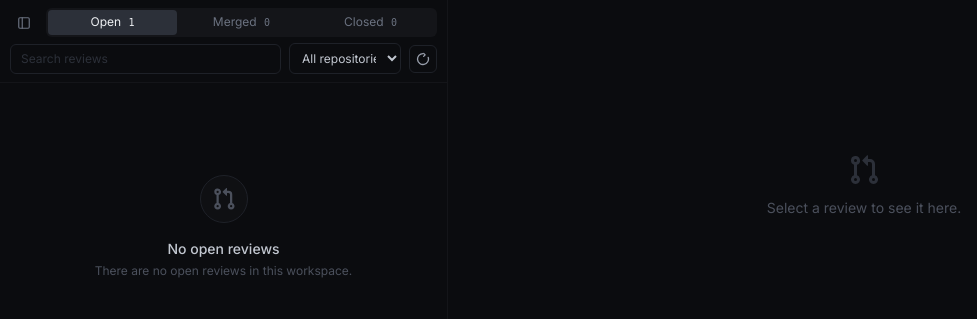
CodeReviewsPage › shows a centered actionable empty state for a remote search
Type "missing review" into the search field. click: (146,58)
box: [10,44,281,74]
Wait 300 ms
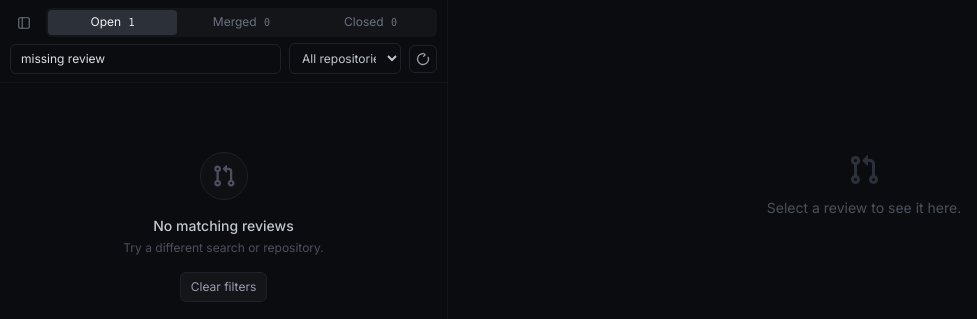
Now the heading "No matching reviews" is shown, box [153,216,294,236]
Now the text "Try a different search or repository." is shown, box [123,240,324,256]
Click the button "Clear filters". click: (223,287)
box: [180,272,267,302]
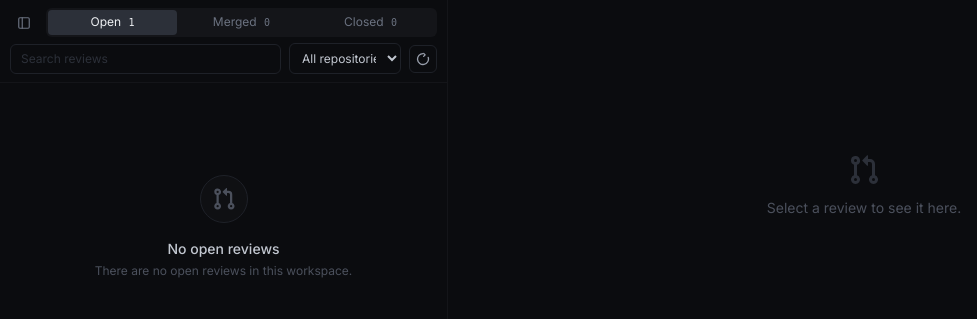
Now the search field is empty, box [10,44,281,74]
